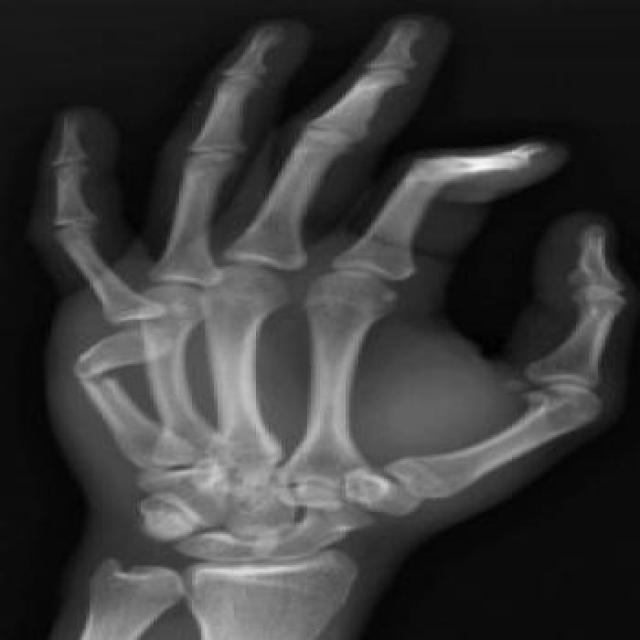Fracture: (49, 351, 141, 395)
